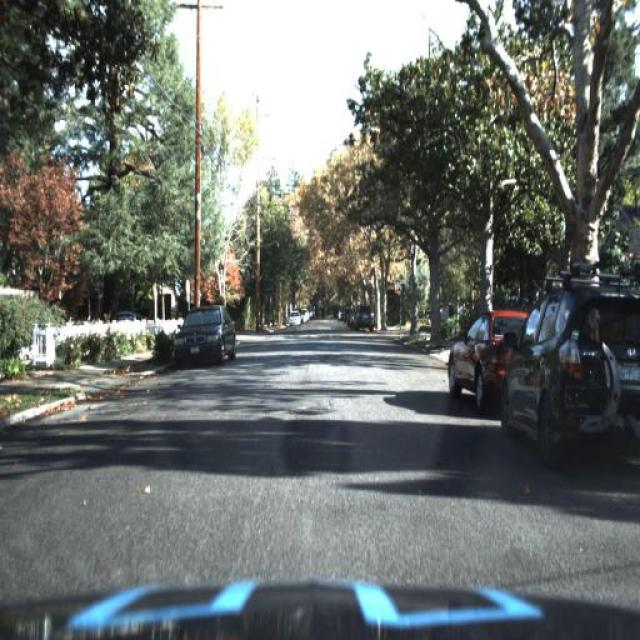car: (499, 262, 638, 476), (442, 310, 538, 394), (170, 301, 234, 364)
